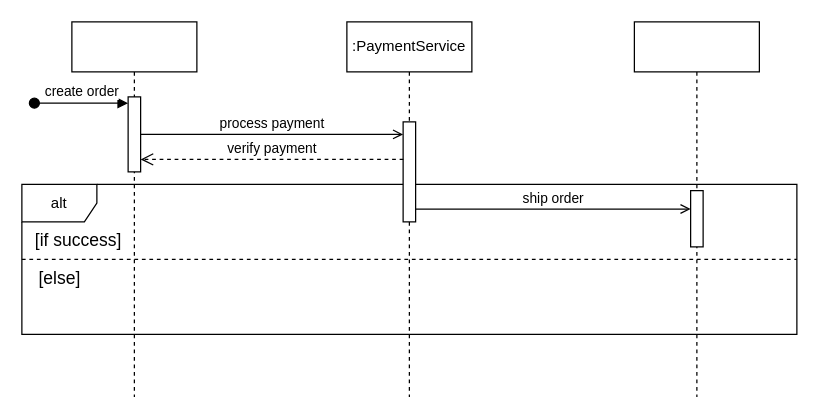
This 820x419 diagram has some shape labels left out. The shapes that lost their labels are listed below. From the top down, each one's box as (x1, y1, x2, y2) in pixels, then its label:
(71, 21, 197, 397): :OrderService
(633, 21, 759, 397): :ShippingService
